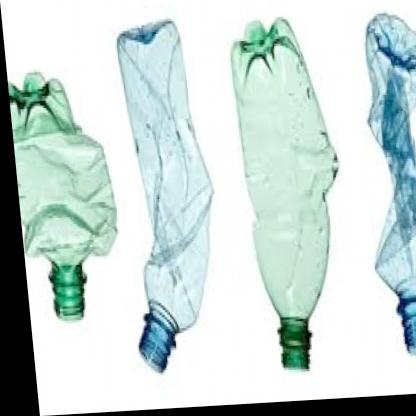trash: (232, 18, 337, 368), (117, 20, 212, 371), (9, 72, 116, 319), (366, 14, 415, 353)
